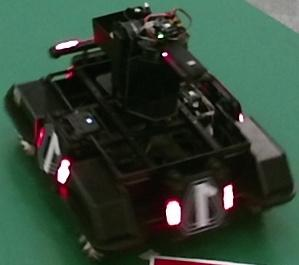armor_1: (165, 184, 233, 226)
